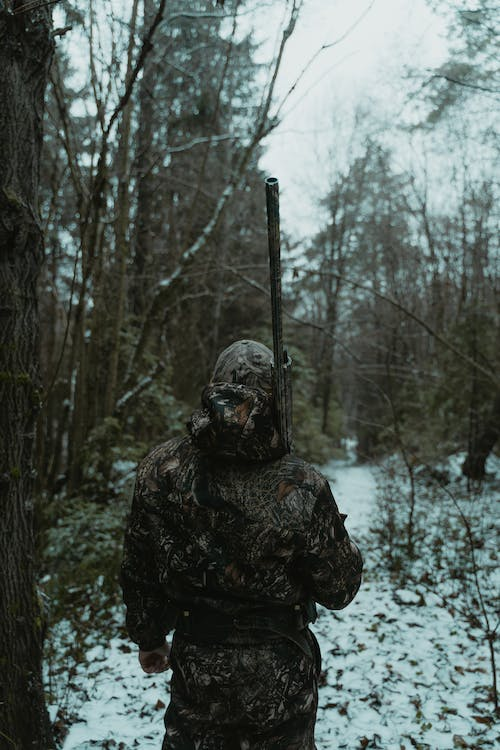gun: (262, 174, 296, 456)
